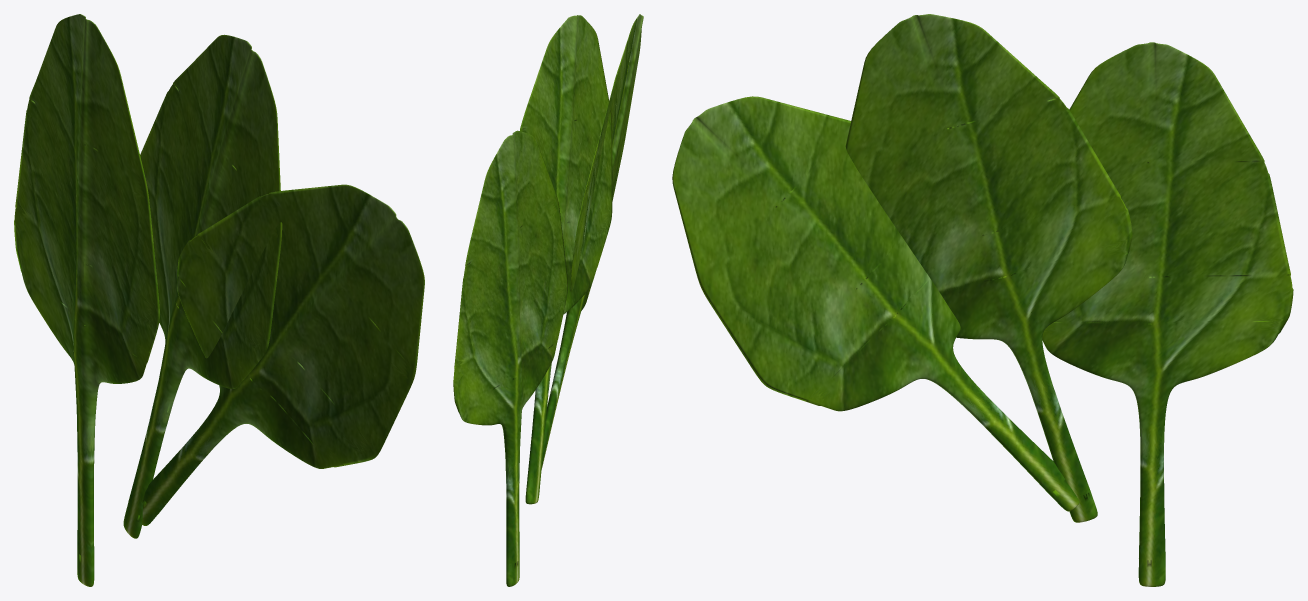
The model's file is spinach.gltf.
3 renders of one model, left to right at view 1: azimuth 30°, elevation 25°; view 2: azimuth 150°, elevation 25°; view 3: azimuth 270°, elevation 25°, orthographic. The views are drawn at different scales.
Visible parts, largest first — view 1: pCube8_phong4_0, pCube7_phong4_0, pCube9_phong4_0; view 2: pCube7_phong4_0, pCube9_phong4_0, pCube8_phong4_0; view 3: pCube9_phong4_0, pCube8_phong4_0, pCube7_phong4_0.
Part boxes in pixels (x1,y1,x2,y2): pCube8_phong4_0: (142, 184, 424, 525); pCube7_phong4_0: (14, 14, 159, 586); pCube9_phong4_0: (123, 34, 282, 538); pCube7_phong4_0: (453, 130, 567, 586); pCube9_phong4_0: (520, 15, 612, 504); pCube8_phong4_0: (541, 14, 643, 470); pCube9_phong4_0: (845, 14, 1132, 522); pCube8_phong4_0: (672, 96, 1079, 511); pCube7_phong4_0: (1042, 42, 1293, 586).
Bounding box in the file's own units: 0.4322 × 2.47 × 2.34.
2 materials, 2 textured.
